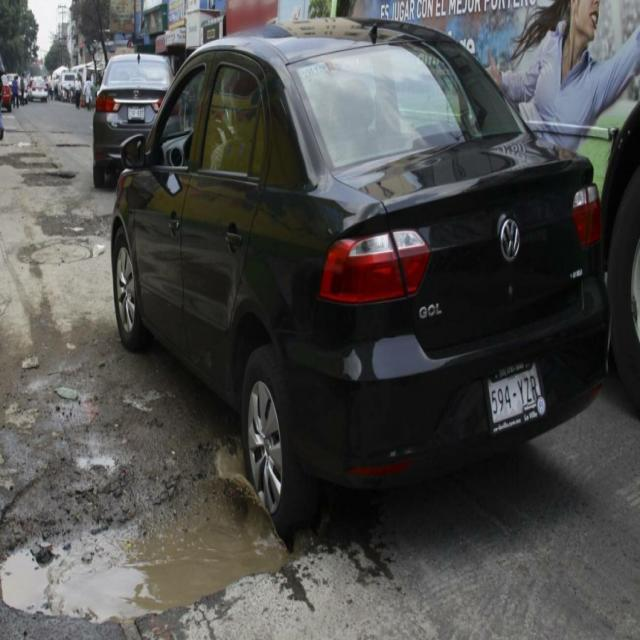Pothole: (4, 462, 319, 639)
